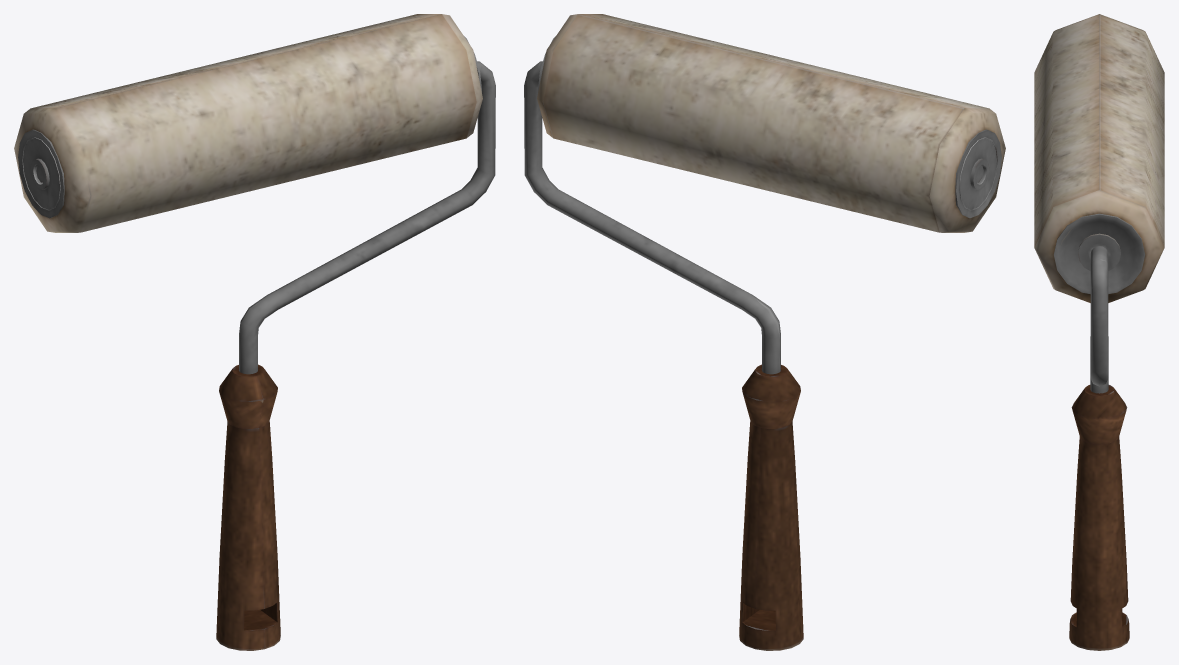
File: roller.fbx
3 renders of one model, left to right at view 1: azimuth 30°, elevation 25°; view 2: azimuth 150°, elevation 25°; view 3: azimuth 270°, elevation 25°, orthographic. The views are drawn at different scales.
Visible parts, largest first — view 1: Merged_Cylinder; view 2: Merged_Cylinder; view 3: Merged_Cylinder.
Boxes of the visible parts, x1=… form: Merged_Cylinder: x1=14, y1=14, x2=495, y2=650; Merged_Cylinder: x1=524, y1=14, x2=1005, y2=650; Merged_Cylinder: x1=1034, y1=14, x2=1164, y2=650.
Size of the model in its own units: 0.4144 by 0.5 by 0.1102.
